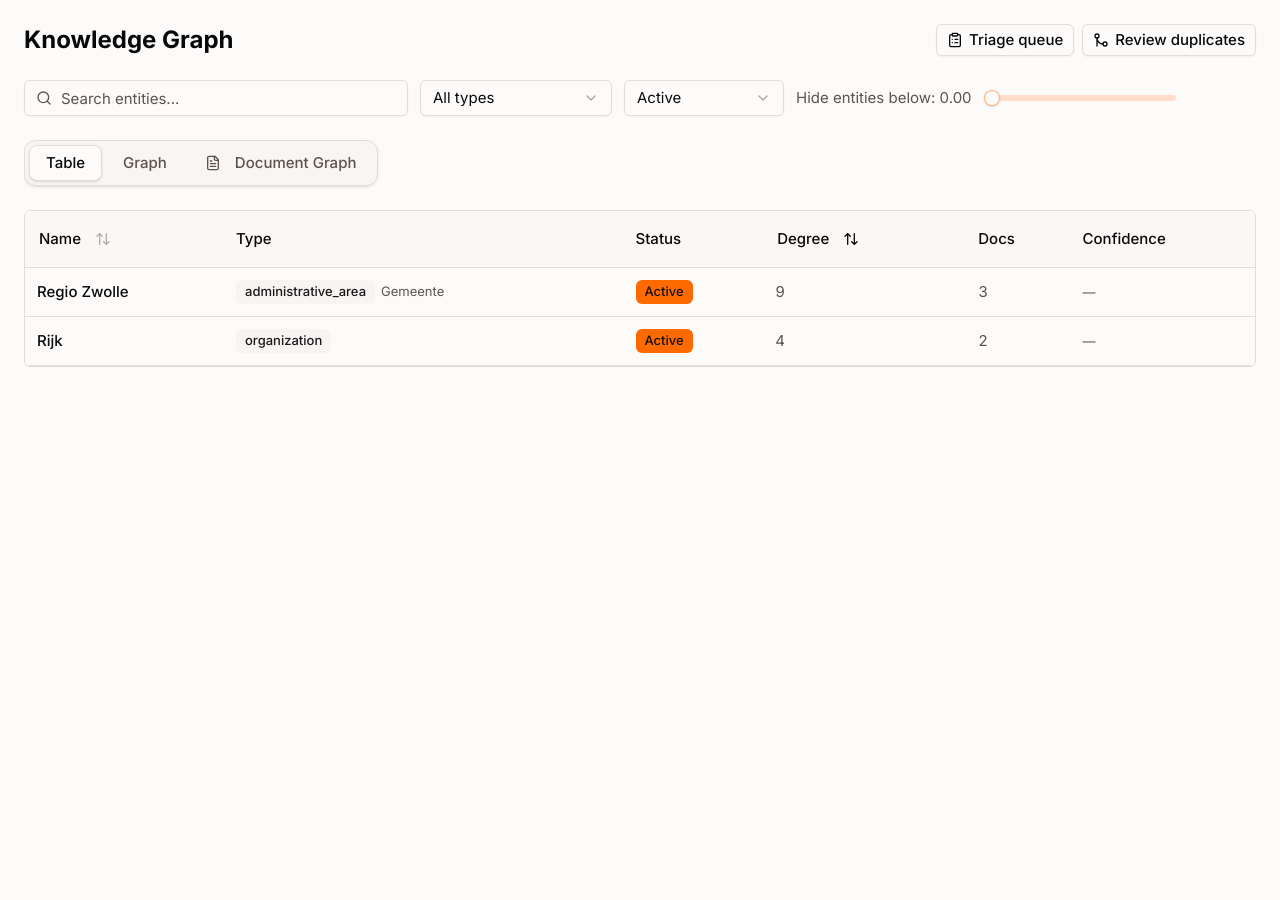
it: Knowledge Graph by width (WB.5) › from md the table; below lg the details are still a sheet
The width and height of the screenshot is (1280, 900).
Click the row with test id "entity-row-entity:a" at (640, 292), box 25,268 -> 1255,316
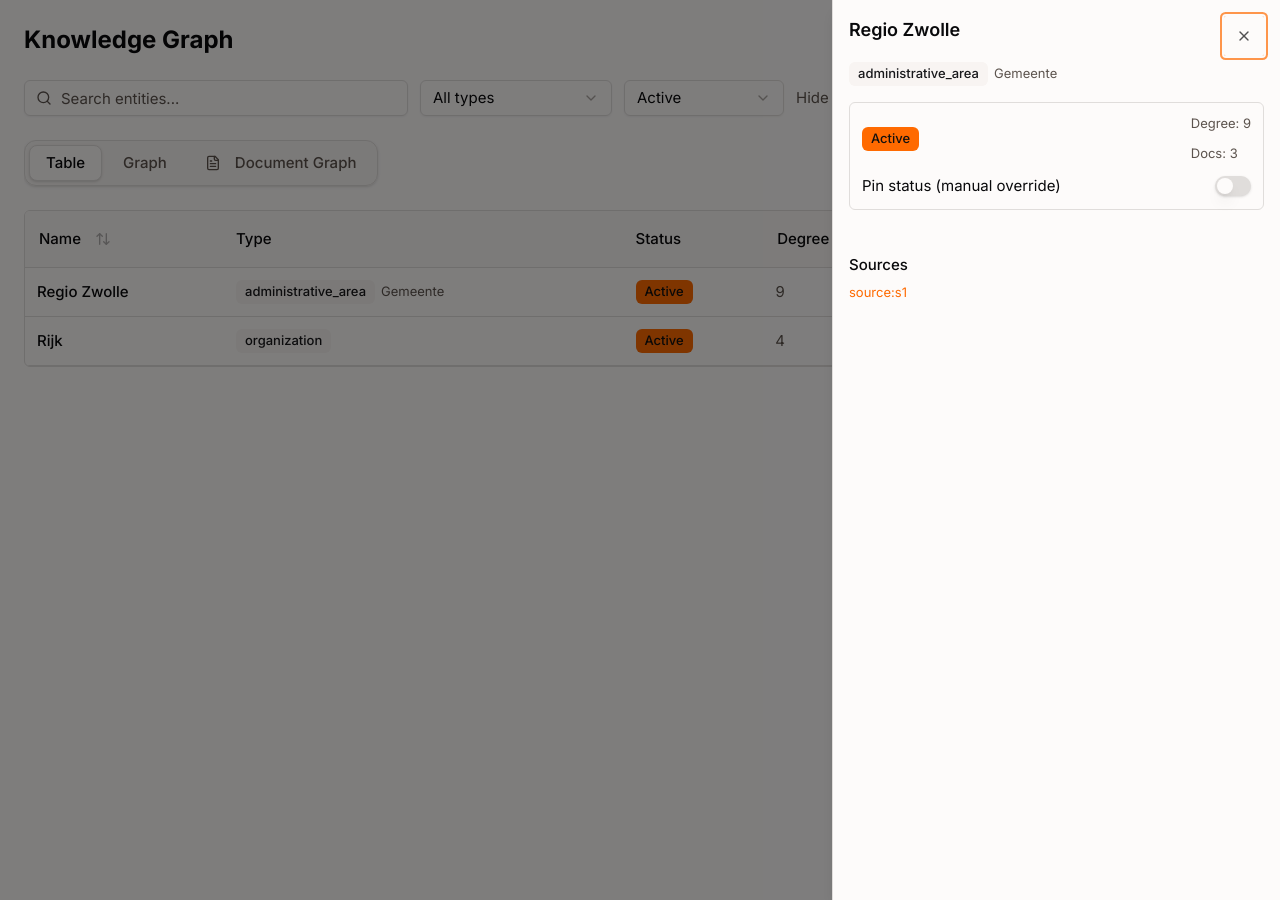
Expected: the dialog is shown, 832,0 -> 1279,899
